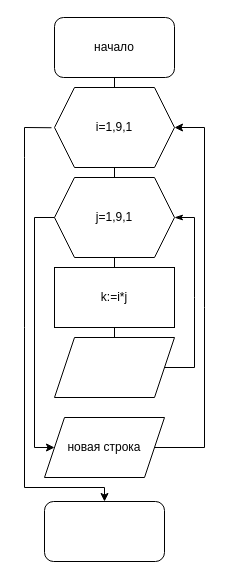
Some shapes in this 230 by 579 pixel diagram are drawn without their labels. The centre of each missing label's shape, as x and y in pixels:
"вывод k" belongs at point (114, 367).
"конец" belongs at point (104, 531).
